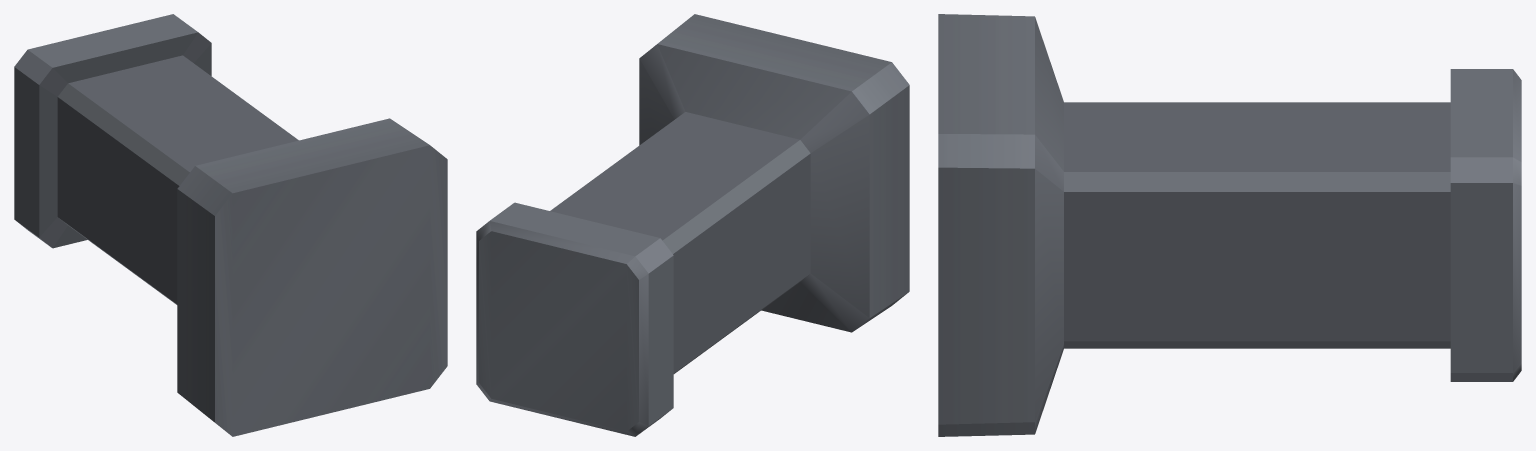
The model's file is Edge Pillar Center 01.FBX.
3 renders of one model, left to right at view 1: azimuth 30°, elevation 25°; view 2: azimuth 150°, elevation 25°; view 3: azimuth 270°, elevation 25°, orthographic. The views are drawn at different scales.
Visible parts, largest first — view 1: Edge Pillar Center 01; view 2: Edge Pillar Center 01; view 3: Edge Pillar Center 01.
Boxes of the visible parts, x1,y1,x2,y2 form: Edge Pillar Center 01: (14, 14, 447, 436); Edge Pillar Center 01: (476, 14, 909, 436); Edge Pillar Center 01: (938, 14, 1521, 436).
Size of the model in its own units: 44.43 by 44.45 by 77.5.
